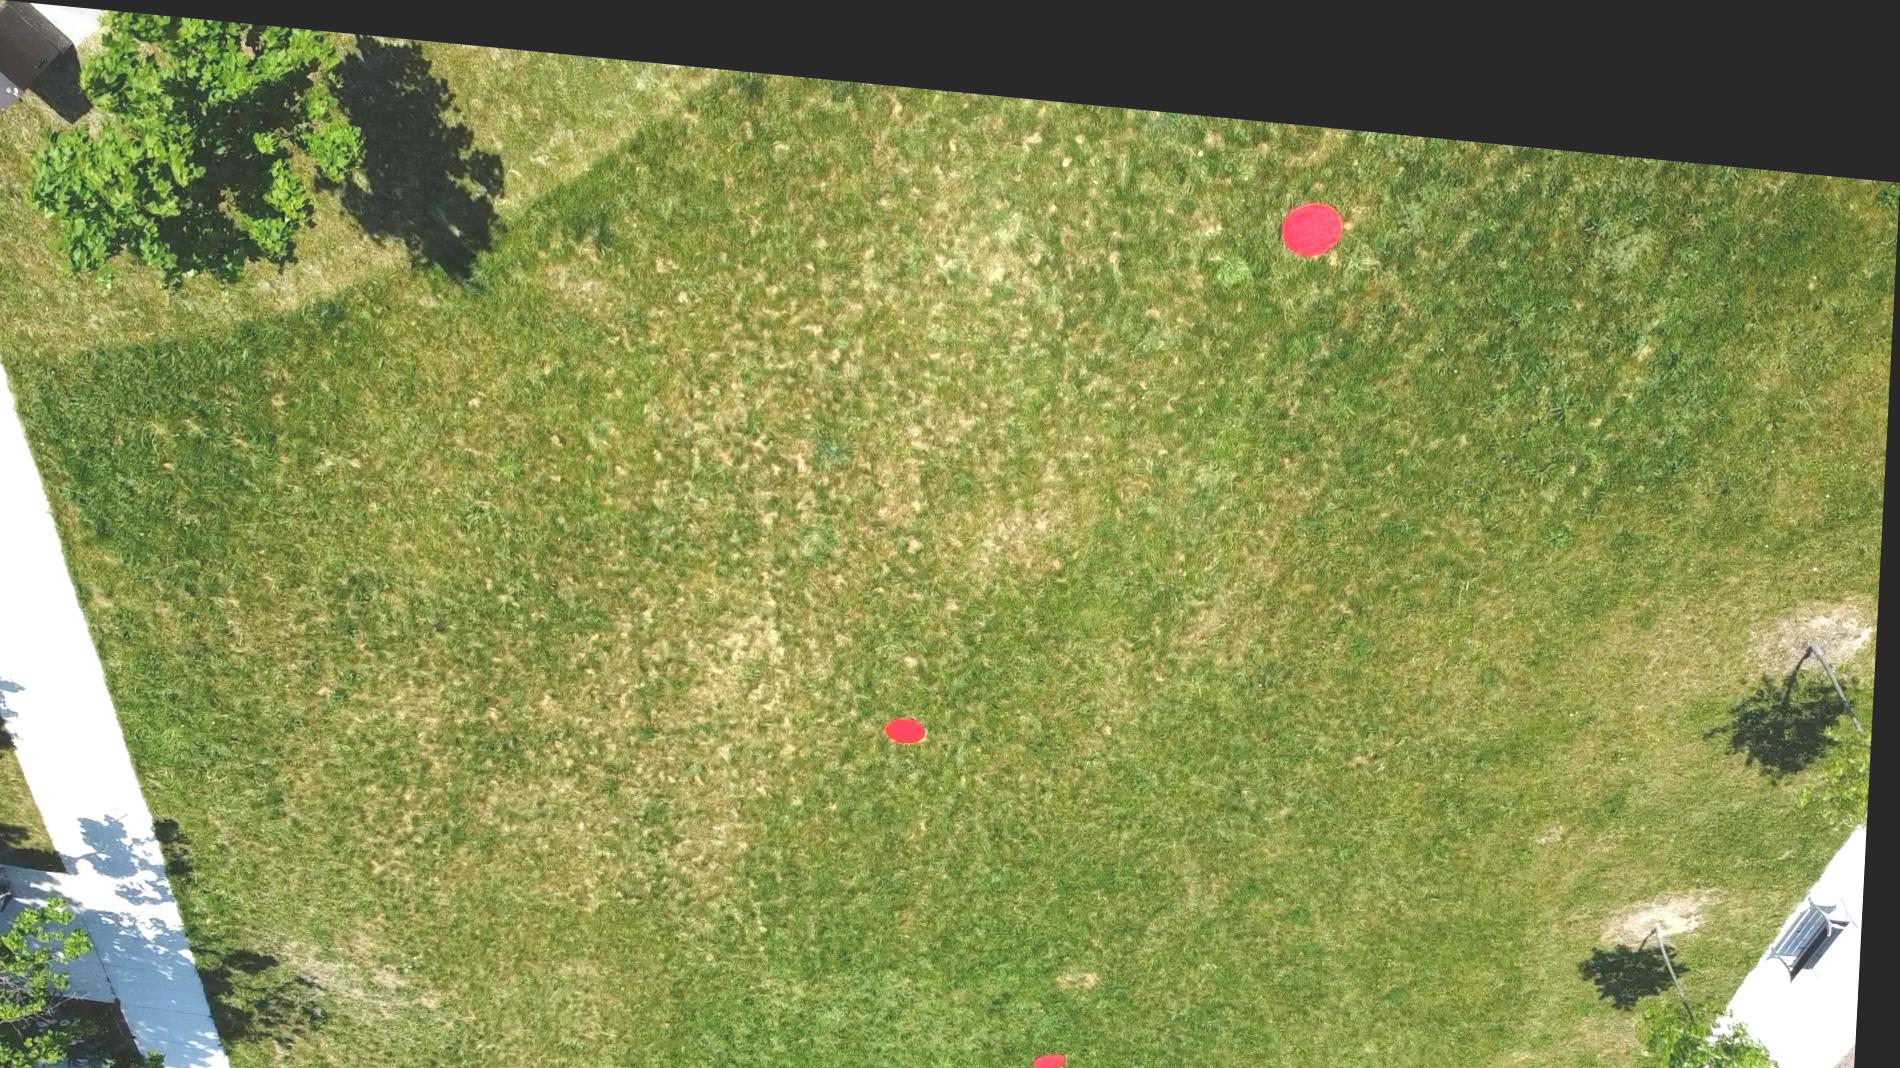Red: (1276, 170, 1351, 235), (889, 692, 934, 730), (1039, 1028, 1080, 1052)
